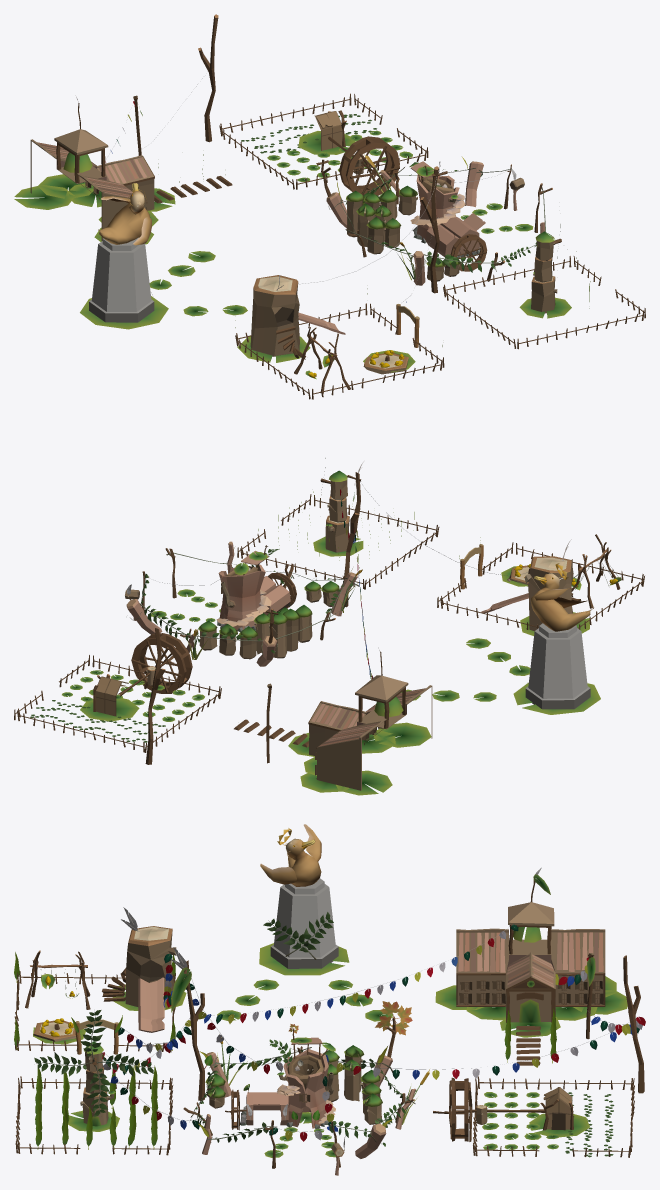
3 renders of one model, top to bottom at view 1: azimuth 30°, elevation 25°; view 2: azimuth 150°, elevation 25°; view 3: azimuth 270°, elevation 25°, orthographic. The views are drawn at different scales.
Parts seen in each view (by area): view 1: flag1.009, watermill.007, duckscarousel.004, watermillHouse.009; view 2: flag1.009, watermill.007; view 3: flag1.009, windmill.008, watermill.007, duckscarousel.004, nestStageWindmill_11.011.
Boxes of the visible parts, bbox=[...] form: flag1.009: bbox=[14, 14, 645, 399]; watermill.007: bbox=[328, 136, 399, 195]; duckscarousel.004: bbox=[363, 350, 408, 374]; watermillHouse.009: bbox=[450, 234, 487, 271]; flag1.009: bbox=[14, 462, 644, 795]; watermill.007: bbox=[118, 633, 192, 696]; flag1.009: bbox=[14, 824, 645, 1175]; windmill.008: bbox=[34, 1010, 153, 1116]; watermill.007: bbox=[433, 1077, 544, 1141]; duckscarousel.004: bbox=[33, 1018, 80, 1041]; nestStageWindmill_11.011: bbox=[375, 1001, 412, 1035].
Size of the model in its own units: 14.99 by 4.76 by 17.44.
